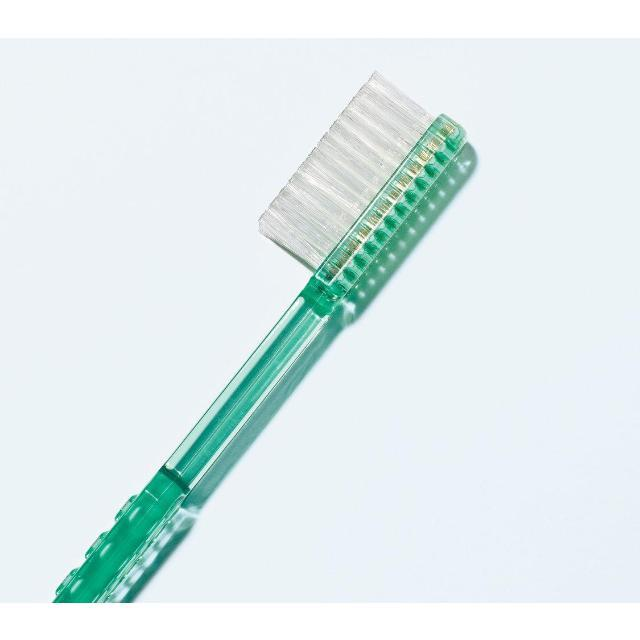toothbrush: (0, 46, 506, 602)
